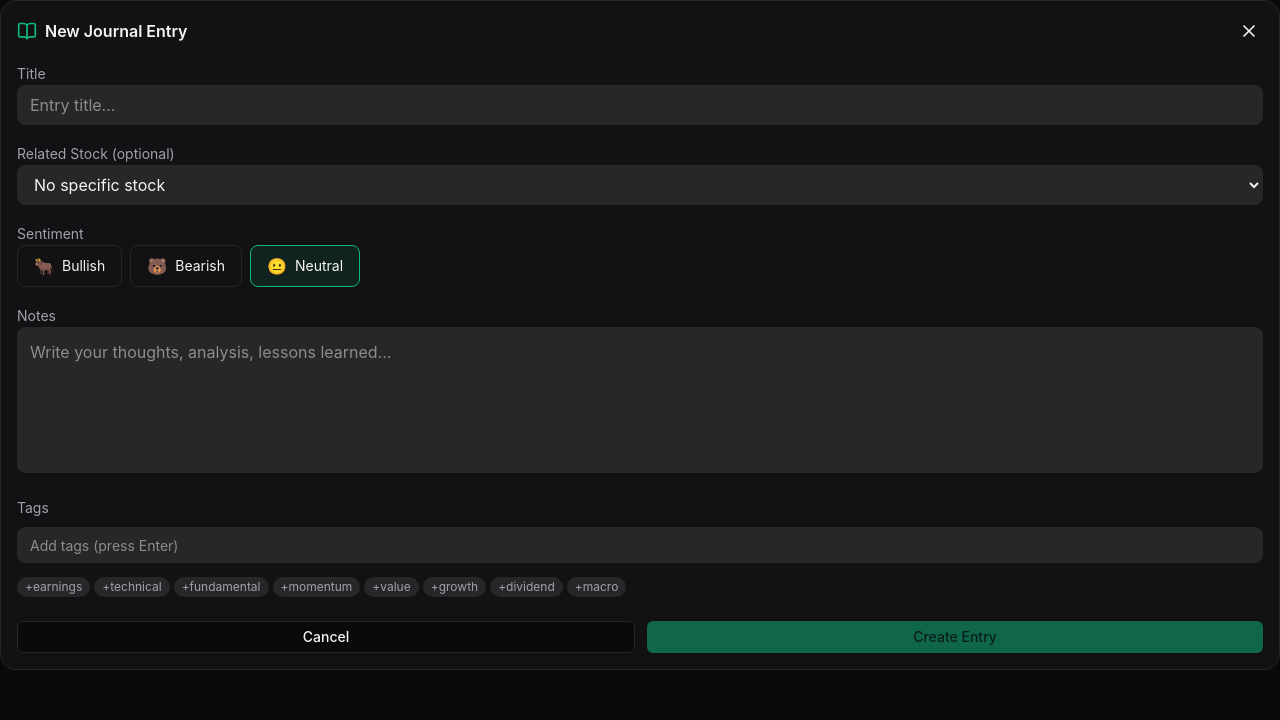
Test case: TradeJournalForm › adds suggested tag when clicked
Click the button "+earnings". click: (54, 587)
box: [17,577,90,597]
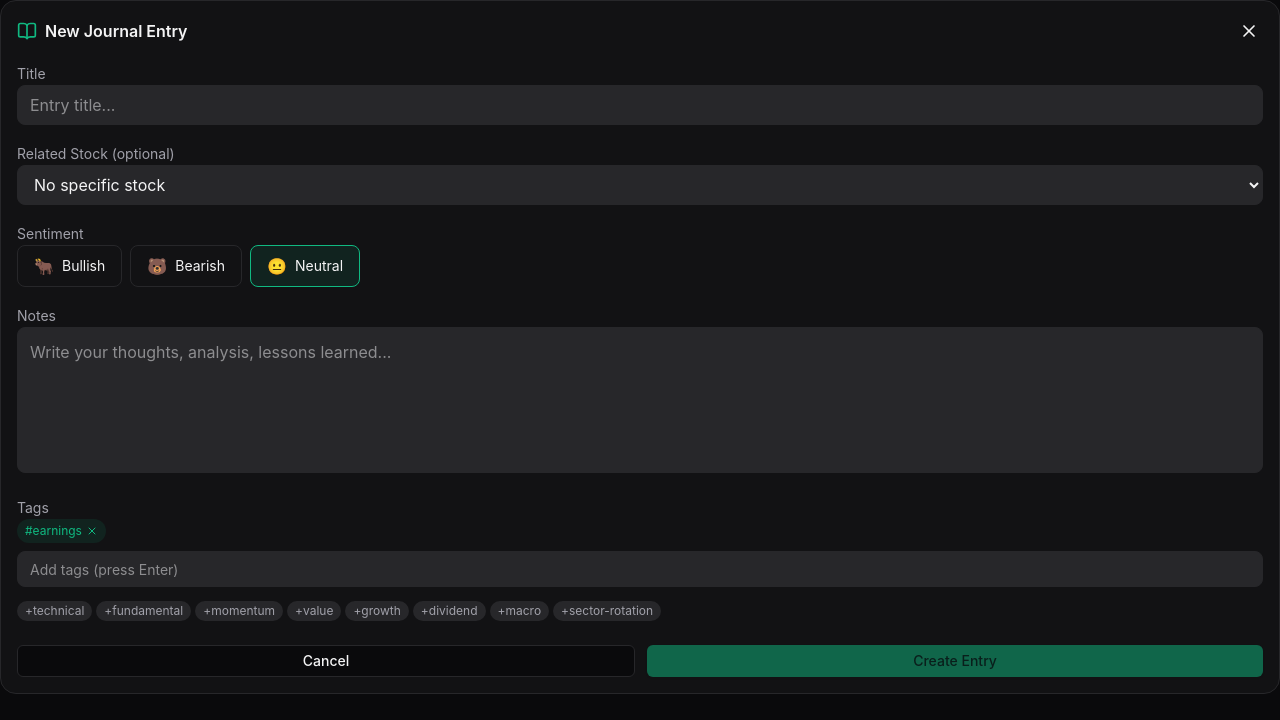
Check: the text "#earnings" is shown, box [17,519,106,543]
